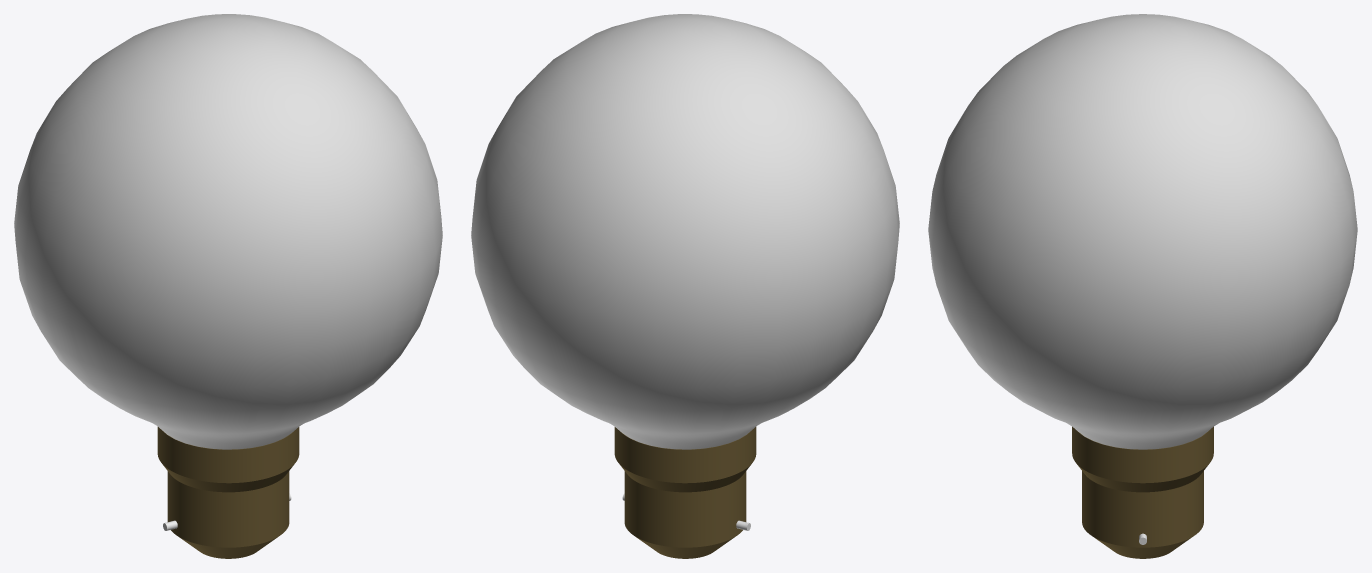
File: Bulb.fbx
3 views of the same model, side by side, from view 1: azimuth 30°, elevation 25°; view 2: azimuth 150°, elevation 25°; view 3: azimuth 270°, elevation 25° (orthographic).
Visible parts, largest first — view 1: Bulb; view 2: Bulb; view 3: Bulb.
Boxes of the visible parts, x1,y1,x2,y2 form: Bulb: [14, 14, 442, 558]; Bulb: [471, 14, 899, 558]; Bulb: [928, 14, 1357, 558].
Bounding box in the file's own units: 119 × 159 × 119.
6 materials, 5 textured.
